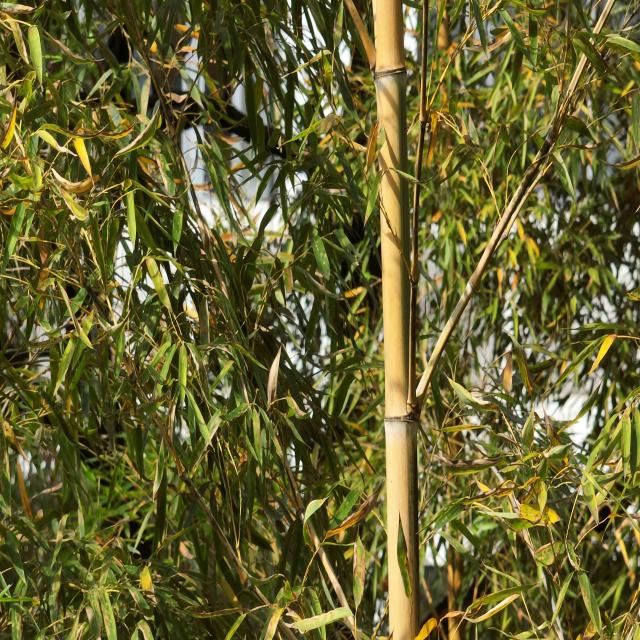Bamboo-shoots: (372, 0, 422, 640)
